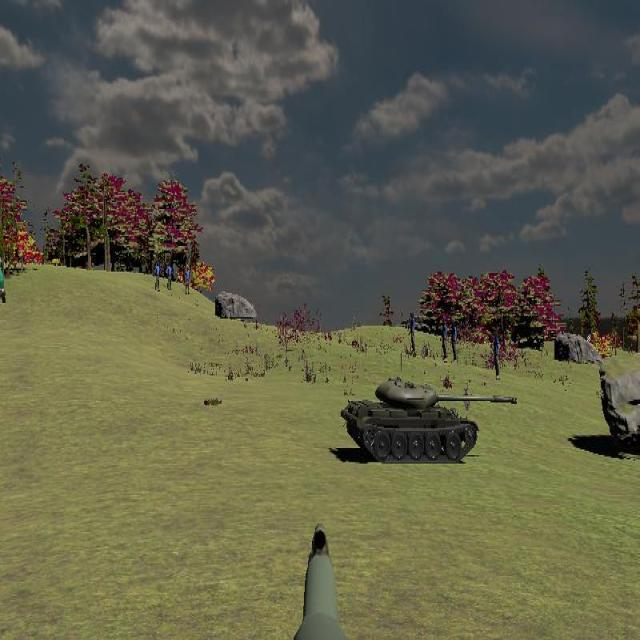Tank: (341, 377, 517, 464)
car: (0, 252, 6, 306)
